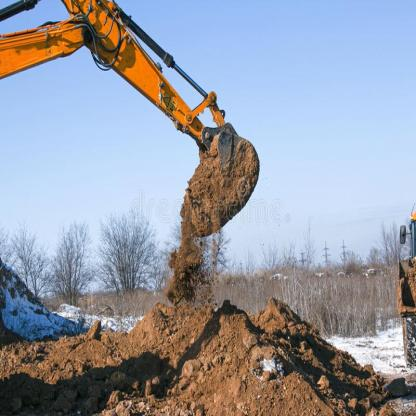excavator: (1, 1, 265, 246)
